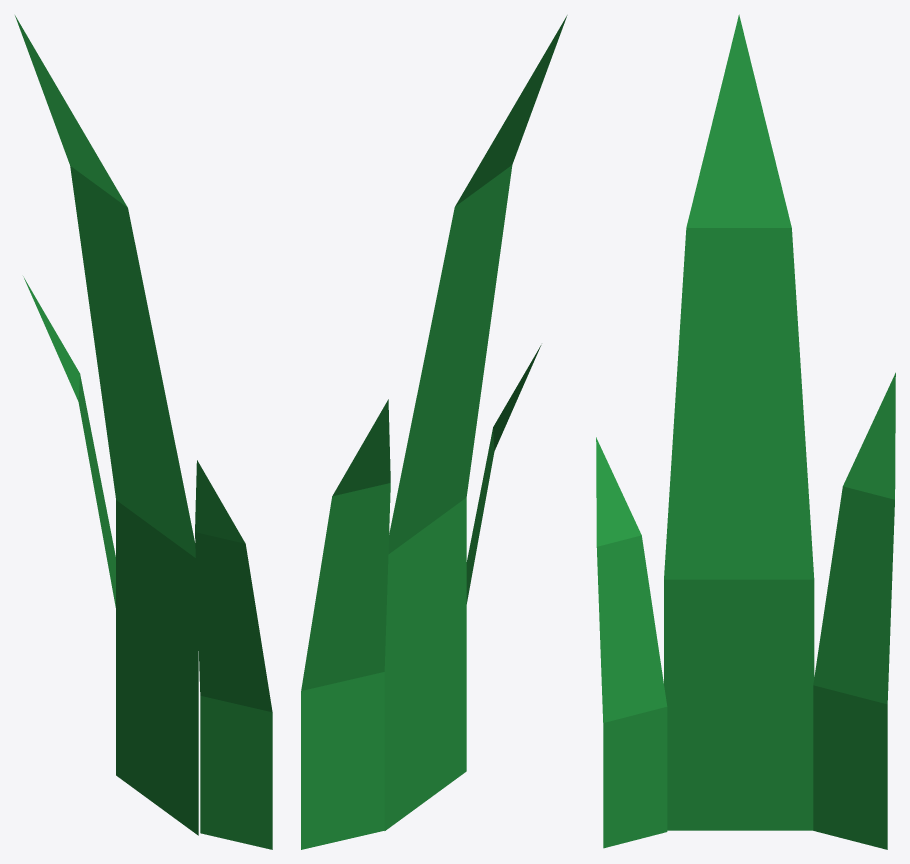
Rendered from Grass_C_001.fbx.
3 renders of one model, left to right at view 1: azimuth 30°, elevation 25°; view 2: azimuth 150°, elevation 25°; view 3: azimuth 270°, elevation 25°, orthographic. The views are drawn at different scales.
Parts seen in each view (by area): view 1: Grass C.001; view 2: Grass C.001; view 3: Grass C.001.
Part boxes in pixels (x1,y1,x2,y2): Grass C.001: (15, 15, 272, 849); Grass C.001: (301, 15, 567, 849); Grass C.001: (596, 14, 895, 849).
Size of the model in its own units: 6.67 by 28.24 by 10.18.
